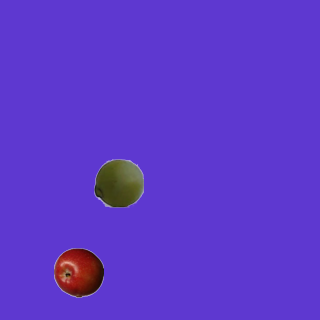Apple Braeburn: (53, 247, 103, 297)
Grape White 4: (93, 157, 143, 207)
